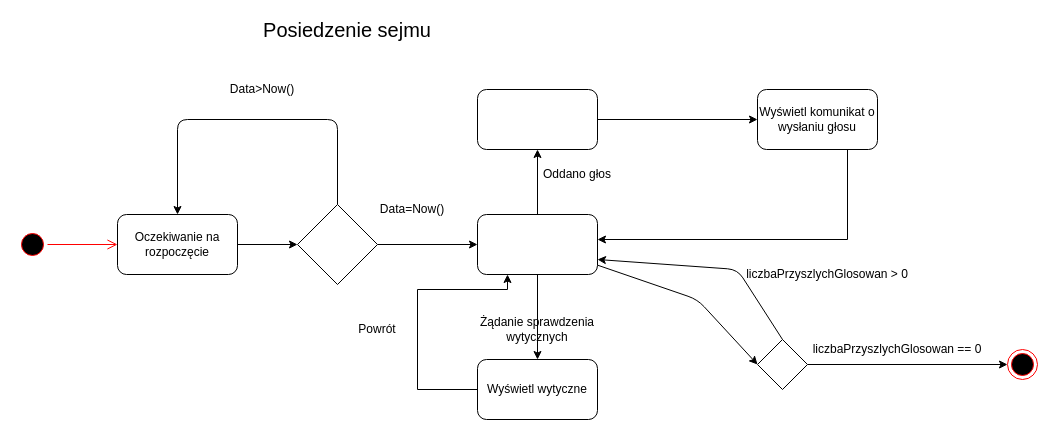
The diagram is 1055 pixels wide and 437 high, and some of its shapes have lost their labels. The shapes that lost their labels are listed below. From the top down, each one's centre as x and y in pixels, then its label:
At (537,119): "Zapisywanie głosu".
At (537,244): "Udostępnij opcję głosowania przez system".
